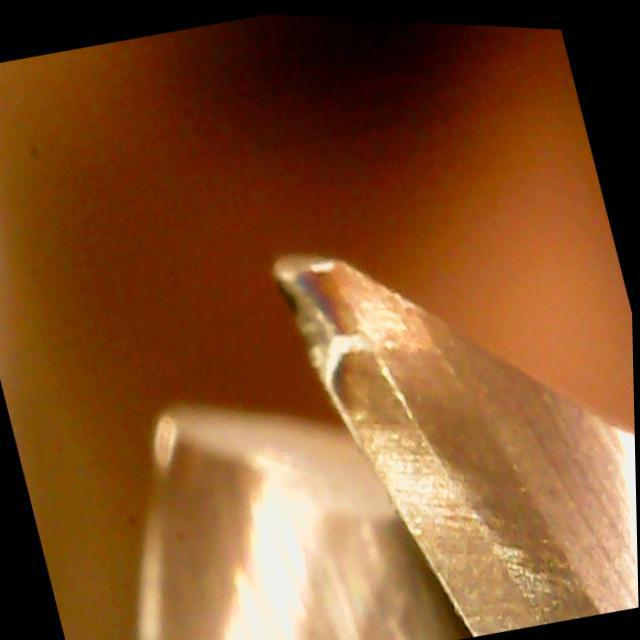Tool-wear-class-1: (238, 212, 524, 584)
